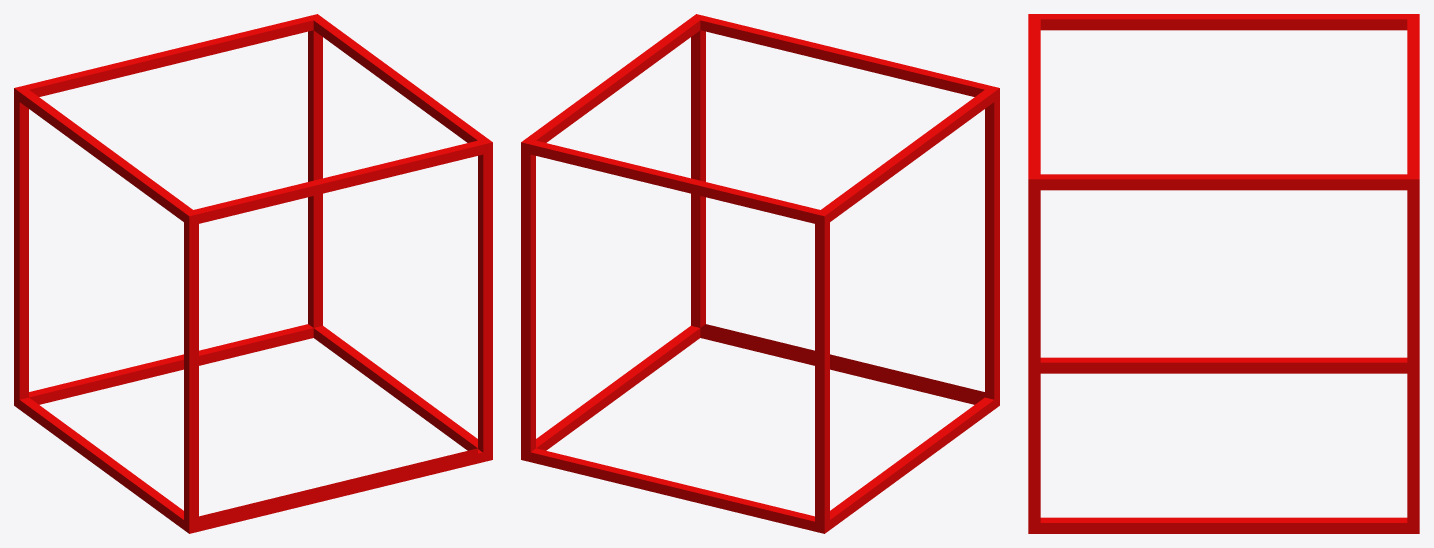
Rendered from select.obj.
The picture shows the model from 3 angles, left to right: view 1: azimuth 30°, elevation 25°; view 2: azimuth 150°, elevation 25°; view 3: azimuth 270°, elevation 25°; orthographic projection. The views are drawn at different scales.
Visible parts, largest first — view 1: Cube; view 2: Cube; view 3: Cube.
Boxes of the visible parts, box(x1,y1,x2,y2) form: Cube: box(14, 14, 492, 533); Cube: box(521, 14, 999, 533); Cube: box(1028, 14, 1419, 533).
Size of the model in its own units: 2 by 2 by 2.
1 material, 1 textured.
